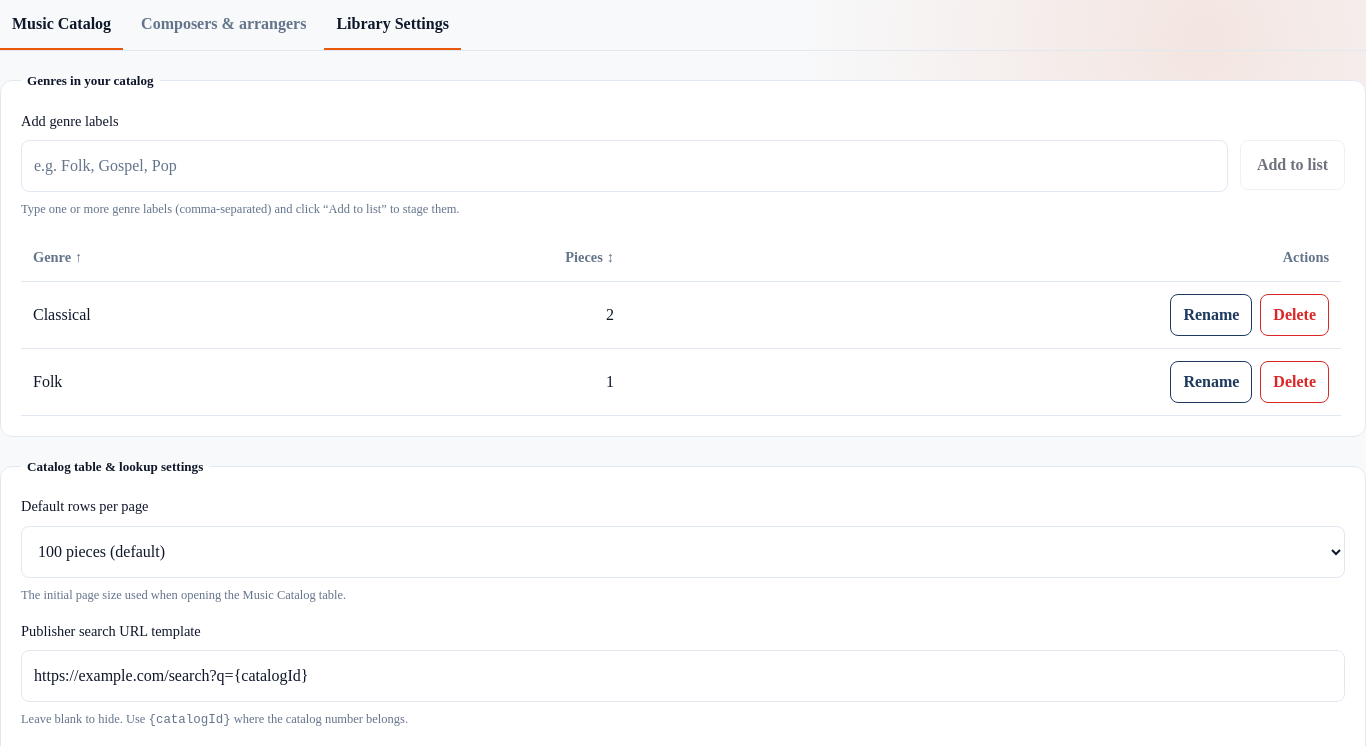
Scenario: MusicLibrarySettingsPage genre management with DataTable & batch add › stages multiple comma-separated genres in one entry
This screenshot has width=1366, height=746.
Type "Gospel, Spiritual" into the field labelled "Add genre labels" at (624, 166), box [21,140,1228,192]
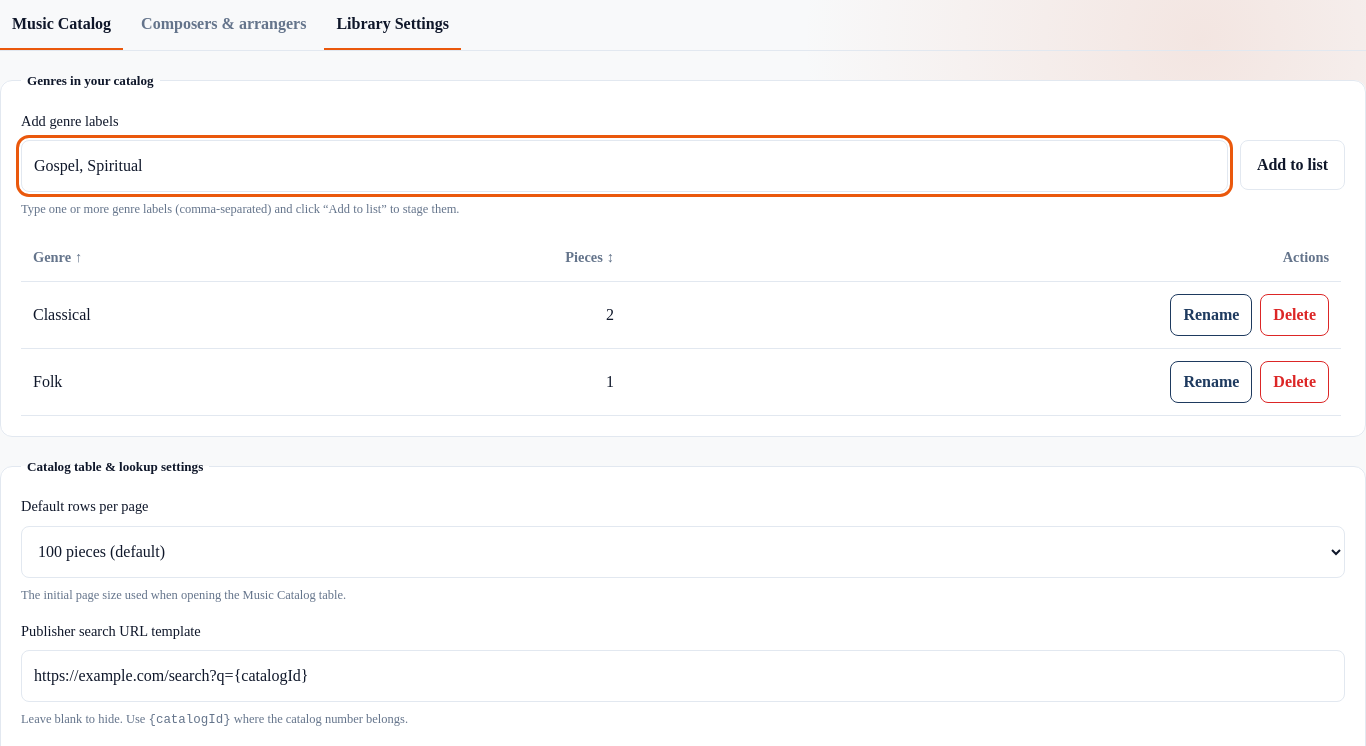
Click the button "Add to list" at (1292, 165), box [1240,140,1345,190]
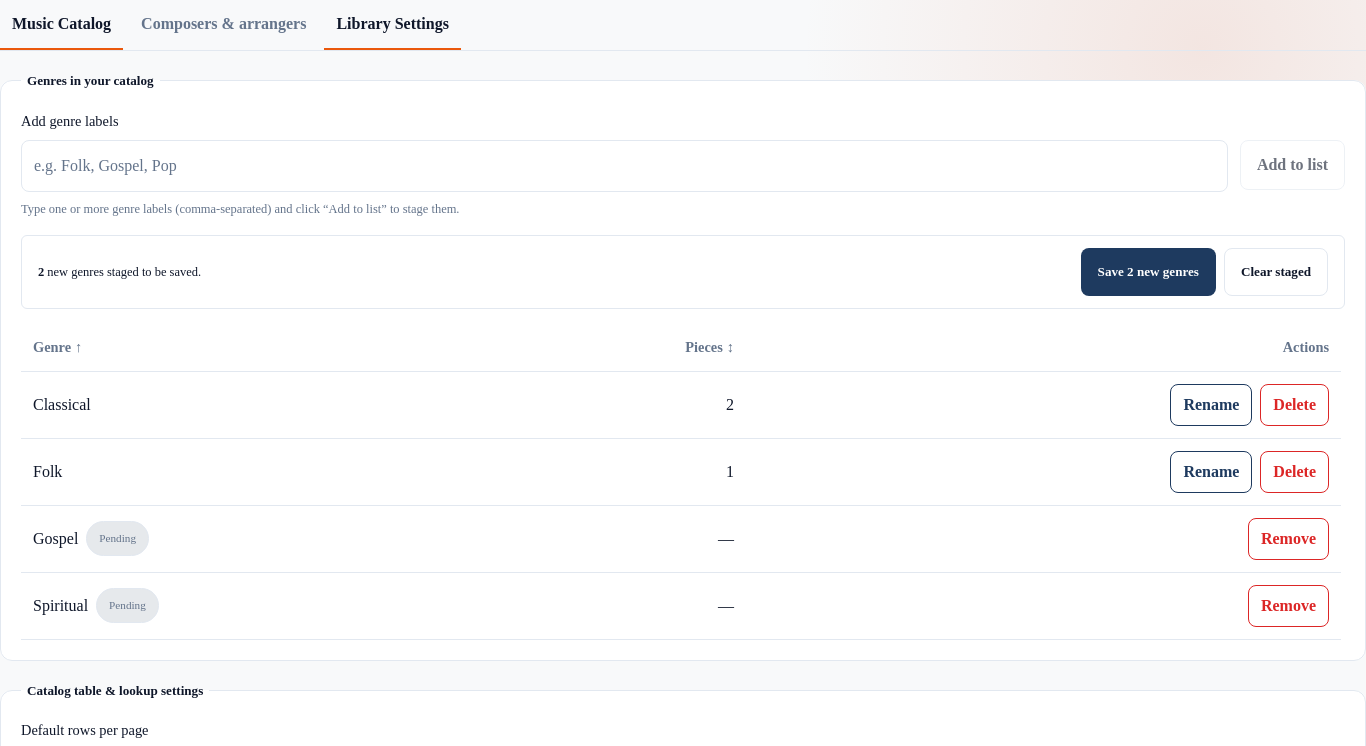
Check: the text "Gospel" is shown, box [33,527,78,551]
Check: the text "Spiritual" is shown, box [33,594,88,618]
Check: the element named "Staged genres" shows "2 new genres staged to be saved.", box [21,235,1345,309]
